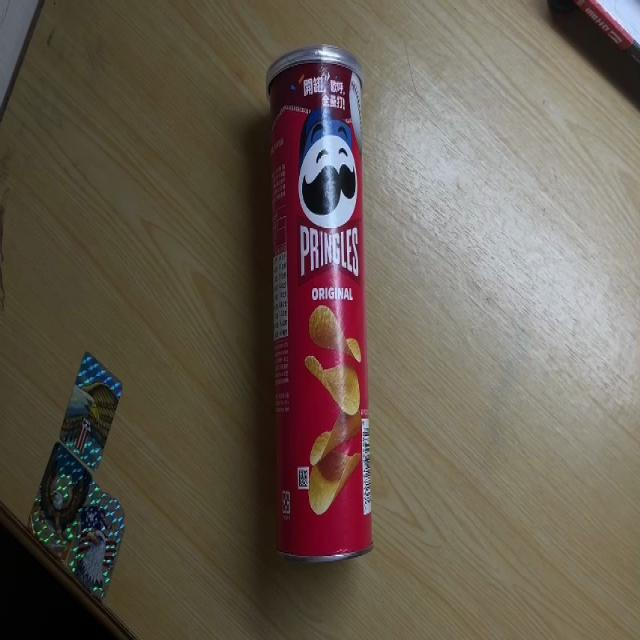Pringles: (265, 43, 372, 560)
